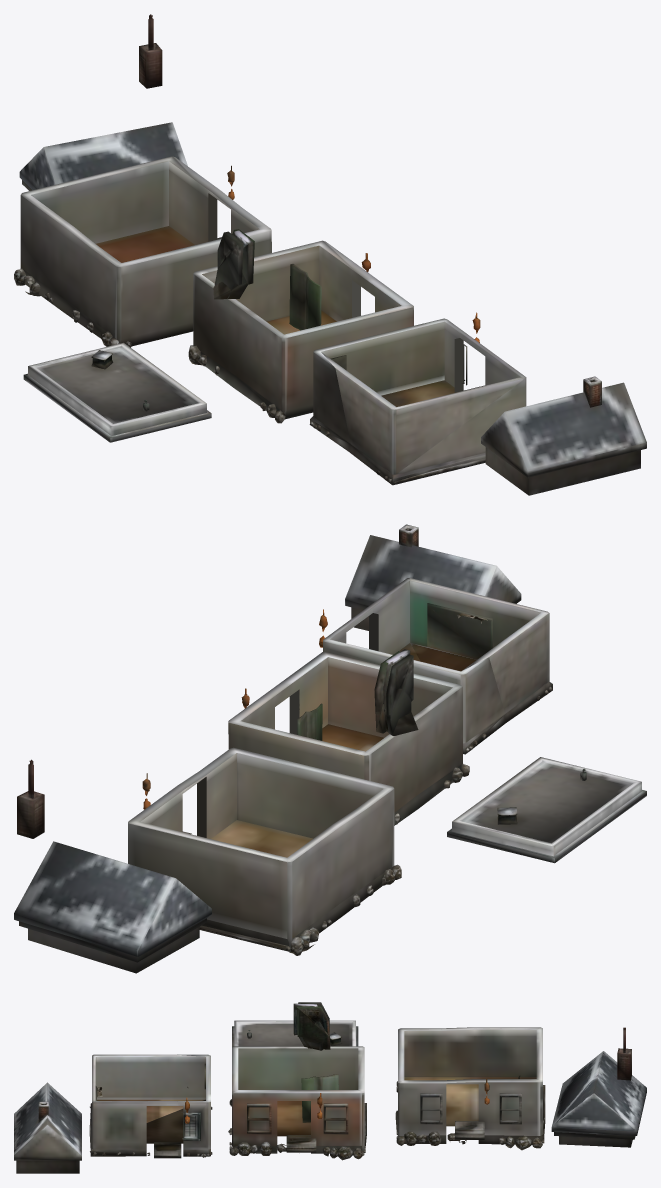
The model's file is houses-4k.glb.
3 views of the same model, one above another, from view 1: azimuth 30°, elevation 25°; view 2: azimuth 150°, elevation 25°; view 3: azimuth 270°, elevation 25° (orthographic). The views are drawn at different scales.
Parts seen in each view (by area): view 1: house-a, house-c, house-b, house-c-roof, house-b-roof, house-a-roof, house-a-door, house-c-door; view 2: house-a, house-b, house-c, house-a-roof, house-b-roof, house-c-roof, house-a-door, house-c-door, house-b-door; view 3: house-a, house-b, house-c, house-a-roof, house-c-roof, house-b-roof, house-b-door, house-c-door.
Part boxes in pixels (x1,y1,x2,y2): house-a: (14, 156, 271, 347); house-c: (309, 312, 526, 485); house-b: (188, 240, 413, 423); house-c-roof: (481, 376, 646, 495); house-b-roof: (23, 342, 211, 442); house-a-roof: (19, 14, 187, 190); house-a-door: (214, 231, 243, 298); house-c-door: (213, 230, 253, 299); house-a: (128, 747, 401, 955); house-b: (228, 652, 469, 825); house-c: (319, 578, 552, 754); house-a-roof: (14, 759, 211, 973); house-b-roof: (447, 757, 646, 863); house-c-roof: (345, 524, 521, 630); house-a-door: (386, 654, 413, 735); house-c-door: (383, 649, 418, 735); house-b-door: (374, 651, 399, 733); house-a: (363, 1027, 545, 1153); house-b: (228, 1046, 364, 1160); house-c: (89, 1054, 212, 1158); house-a-roof: (551, 1027, 646, 1147); house-c-roof: (14, 1082, 81, 1173); house-b-roof: (232, 1020, 358, 1046); house-b-door: (297, 1006, 330, 1049); house-c-door: (293, 1003, 325, 1050).
Size of the model in its own units: 0.5137 by 0.2324 by 0.9981.
Materials: 1 (1 with a texture image).
